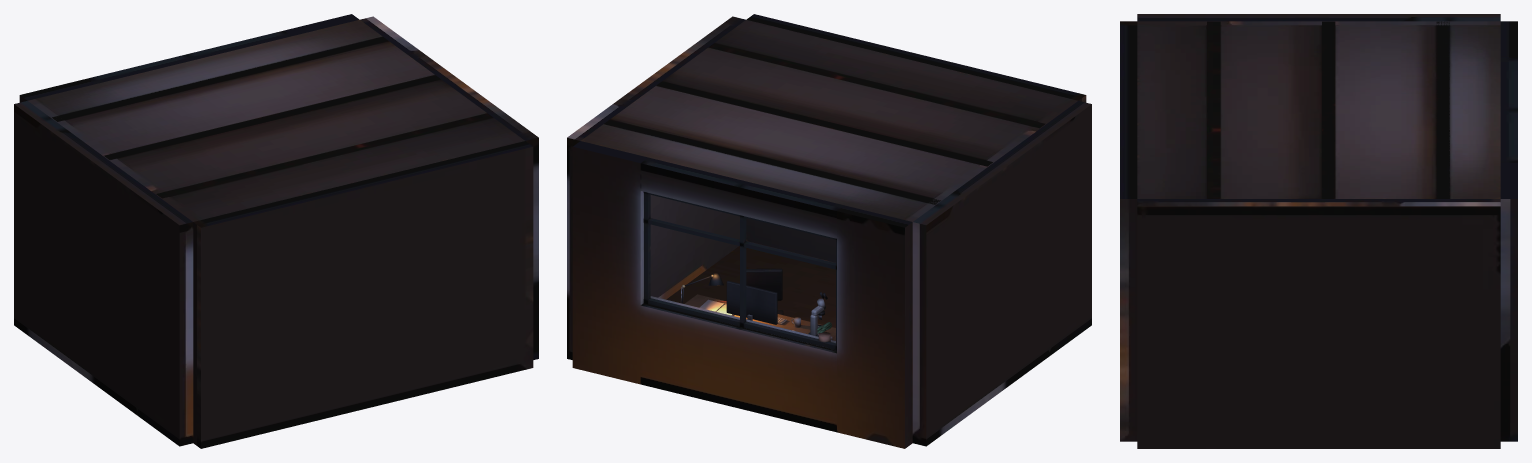
File: signal-room.glb
The picture shows the model from 3 angles, left to right: view 1: azimuth 30°, elevation 25°; view 2: azimuth 150°, elevation 25°; view 3: azimuth 270°, elevation 25°; orthographic projection. The views are drawn at different scales.
Parts seen in each view (by area): view 1: wall_F, ceiling, wall_L, wall_R, beam0, beam1, beam2, wallB_t, wallB_l, wallB_r; view 2: ceiling, wall_L, wallB_l, wallB_r, wallB_b, wall_R, wallB_t, floor, wall_F, window_frame, beam0, beam1 (+5 smaller); view 3: wall_R, ceiling, wall_F, wallB_r, wall_L, beam0, beam1, beam2, wallB_t, wallB_l.
Part boxes in pixels (x1,y1,x2,y2): wall_F: [193, 141, 533, 448]; ceiling: [28, 19, 524, 221]; wall_L: [14, 101, 193, 446]; wall_R: [360, 16, 538, 359]; beam0: [156, 113, 492, 198]; beam1: [104, 75, 439, 159]; beam2: [52, 37, 387, 121]; wallB_t: [88, 30, 291, 83]; wallB_l: [19, 78, 94, 102]; wallB_r: [284, 14, 359, 35]; ceiling: [581, 19, 1077, 221]; wall_L: [912, 101, 1091, 446]; wallB_l: [837, 205, 912, 448]; wallB_r: [572, 141, 648, 384]; wallB_b: [640, 304, 836, 432]; wall_R: [567, 16, 745, 359]; wallB_t: [640, 157, 844, 238]; floor: [666, 241, 835, 327]; wall_F: [746, 14, 1086, 262]; window_frame: [643, 192, 836, 350]; beam0: [709, 43, 1045, 128]; beam1: [657, 81, 992, 166]; wall_R: [1137, 199, 1500, 448]; ceiling: [1137, 21, 1500, 198]; wall_F: [1120, 21, 1137, 441]; wallB_r: [1500, 162, 1517, 441]; wall_L: [1137, 14, 1500, 21]; beam0: [1207, 21, 1220, 198]; beam1: [1322, 21, 1335, 198]; beam2: [1436, 21, 1449, 198]; wallB_t: [1500, 57, 1517, 162]; wallB_l: [1500, 21, 1517, 57].
Bounding box in the file's own units: 4.76 × 2.8 × 4.16.
Materials: 4 (2 with a texture image).
